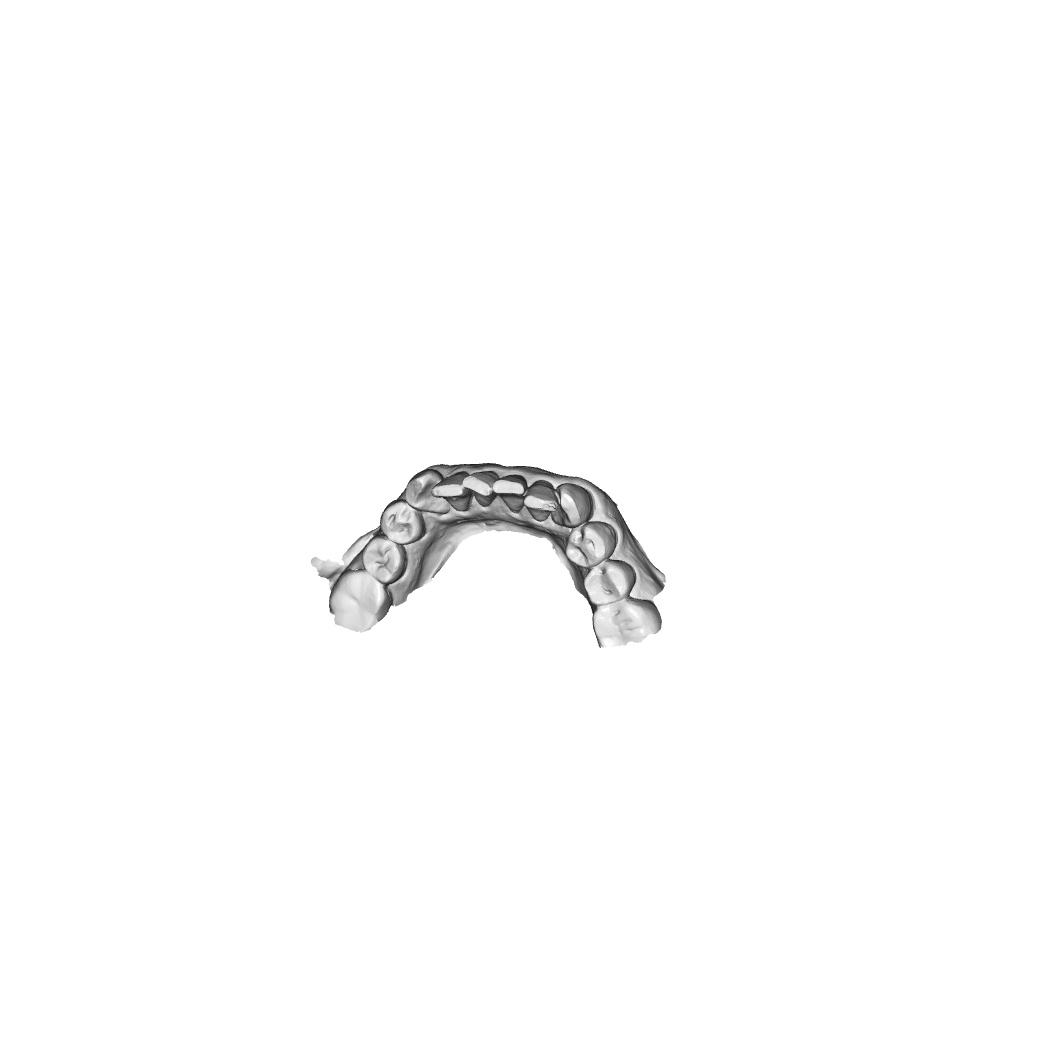canine: (403, 467, 450, 516), (551, 483, 595, 530)
incisor: (430, 470, 470, 513), (523, 479, 559, 523), (462, 470, 500, 509), (492, 474, 528, 515)
molar: (328, 567, 394, 632), (590, 596, 663, 649)
premolar: (358, 534, 410, 587), (564, 520, 618, 570), (583, 558, 637, 607), (379, 499, 427, 546)
